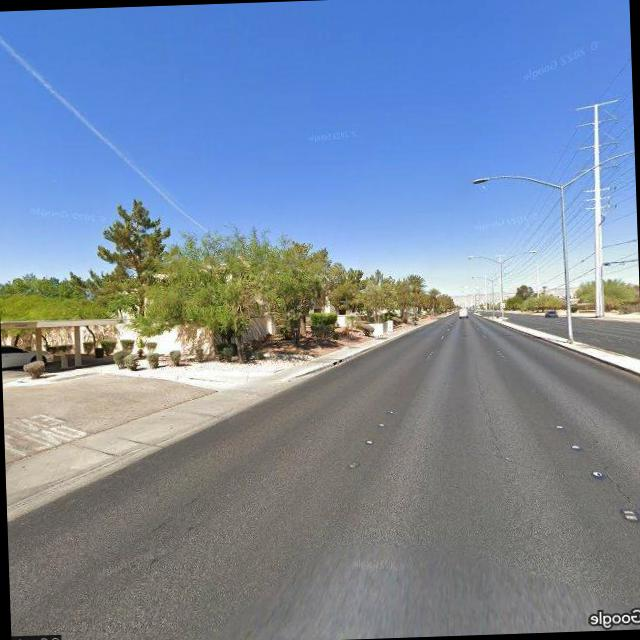pothole: (471, 360, 516, 466)
